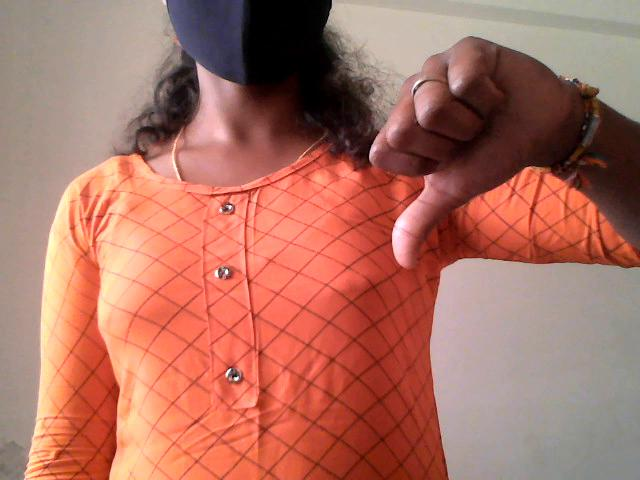thumbs-down: (314, 32, 589, 275)
